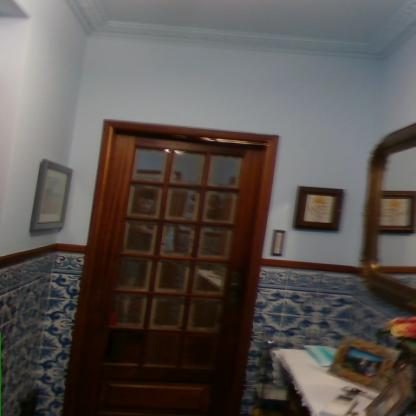closed: (57, 108, 283, 415)
